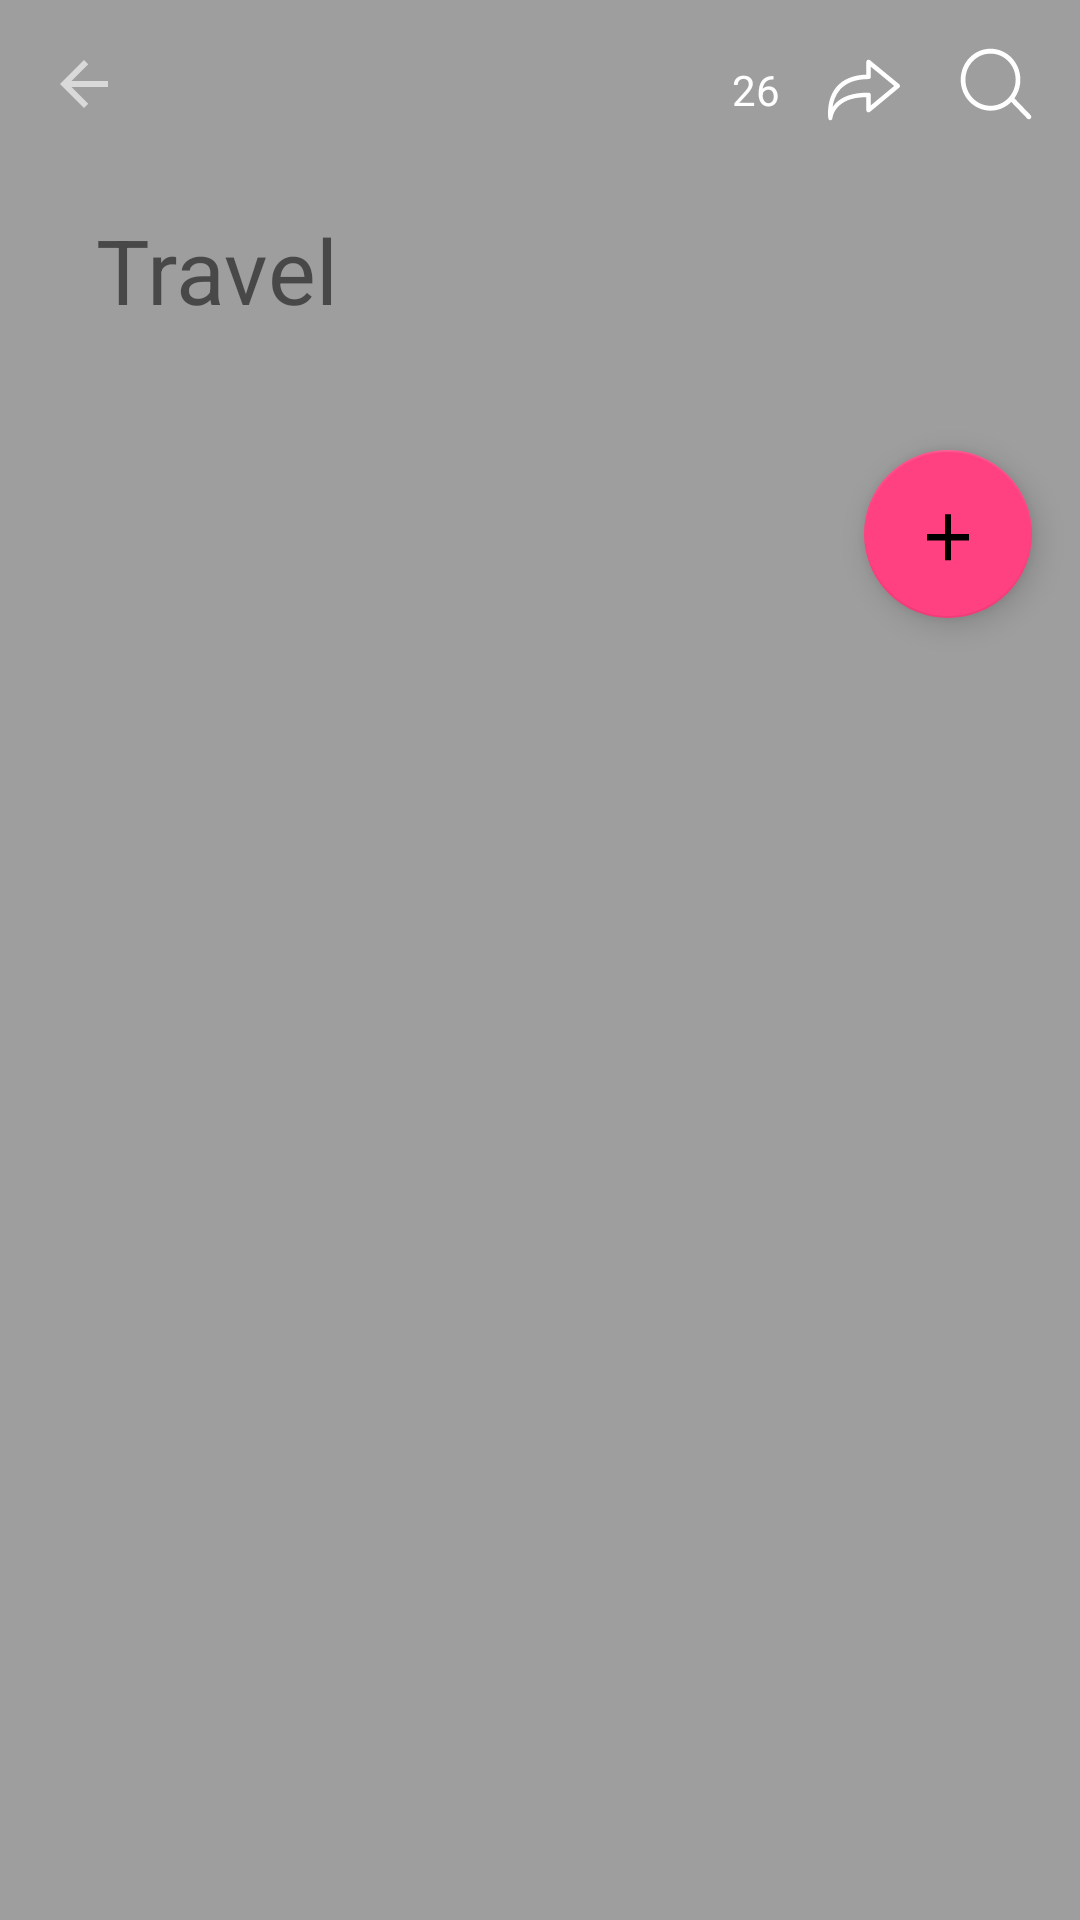

Icons on this 1080x1920 Android screen, each with its box as (x1=x1, y1=y1, x2=x2, y2=y2):
add: (x1=864, y1=450, x2=1032, y2=618)
arrow back: (x1=60, y1=60, x2=108, y2=108)
next: (x1=828, y1=60, x2=900, y2=120)
search: (x1=961, y1=49, x2=1031, y2=119)
